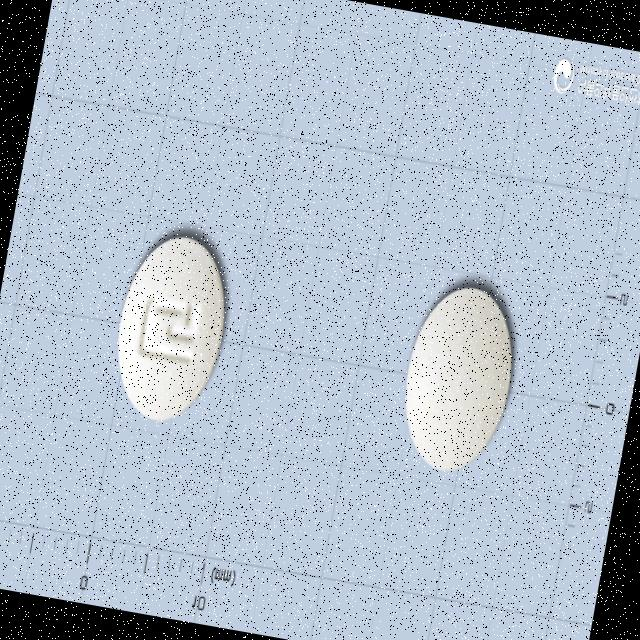Lefexin: (103, 229, 239, 430), (391, 278, 526, 480)
